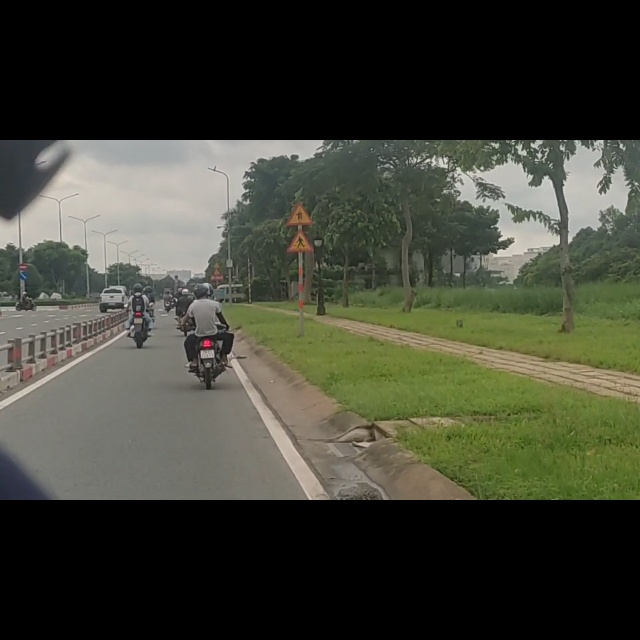bien_nguy_hiem: (287, 156, 314, 201), (287, 111, 313, 152), (18, 218, 28, 233), (19, 233, 28, 249)
